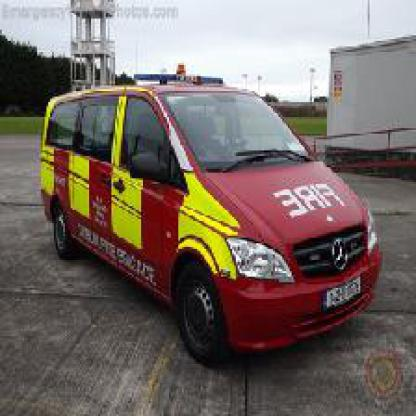emergency: (37, 61, 386, 373)
